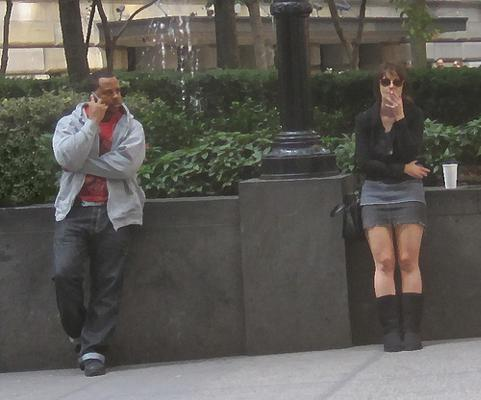person: (46, 71, 148, 377)
